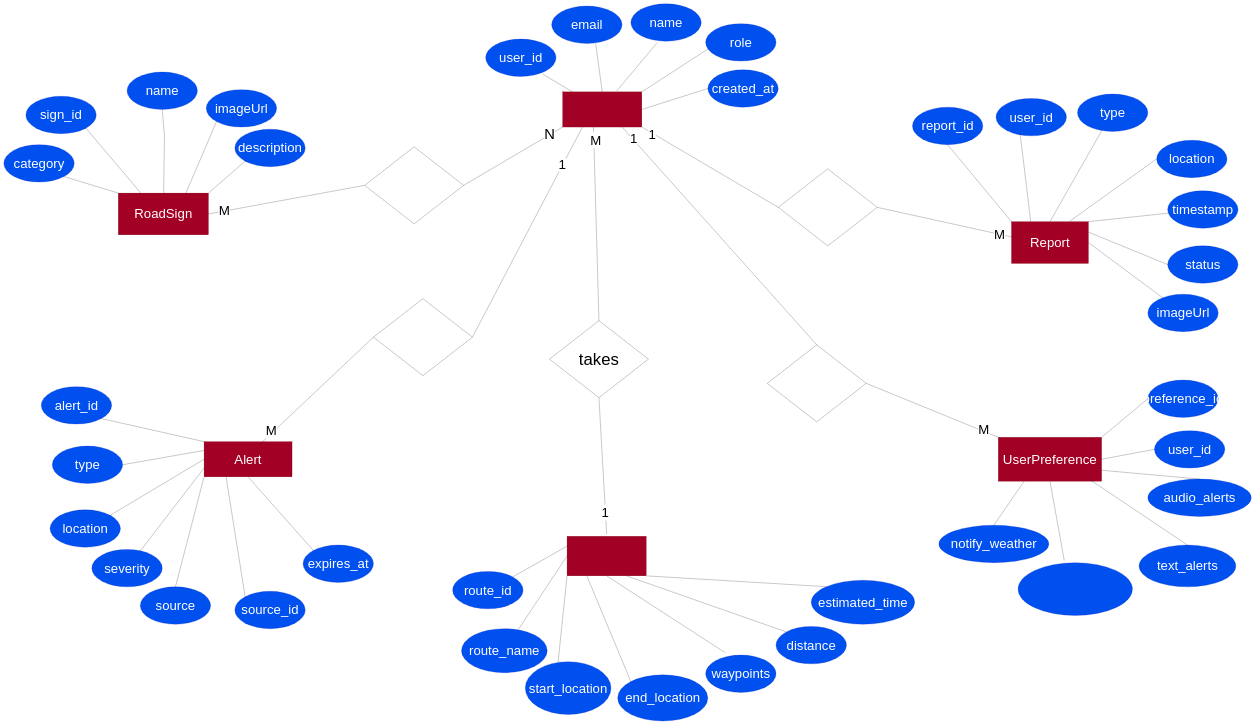
Image size: 1255x725. Some labels were removed from this diagram. Here are the shapes that lost their labels. From the top down, the centre of each, then its label:
At (602,109): "User".
At (414,185): "views".
At (827,207): "make".
At (422,337): "recieves".
At (816,383): "enables".
At (606,556): "Route".
At (1075,588): "notify_hazards".
